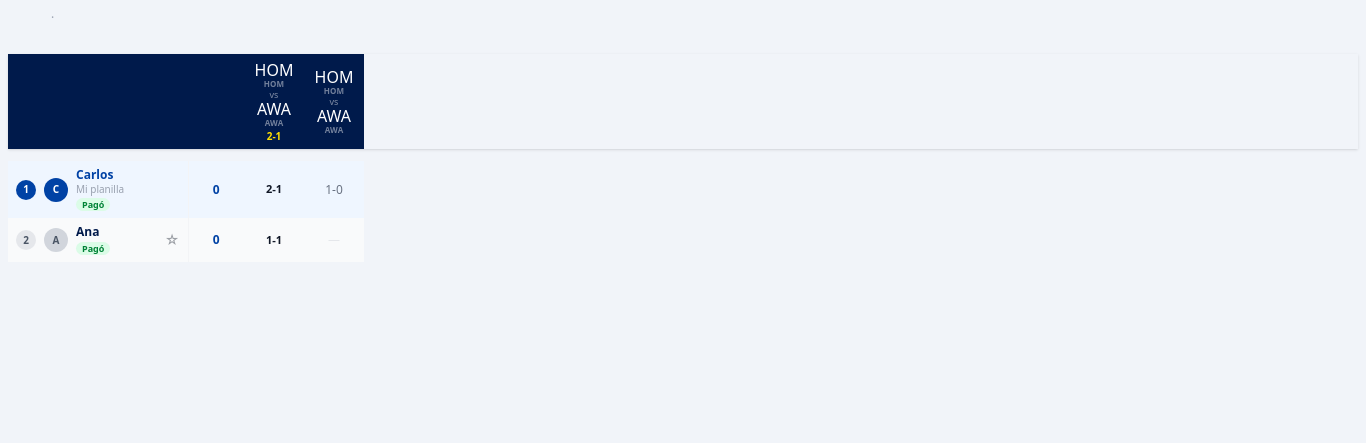
Scenario: Matriz — BetPopover › click en el mismo badge dos veces cierra el popover
Check: the text "Carlos" is shown, box [76,166,113,183]
Click the button "2-1" at (274, 189), box [266,181,282,196]
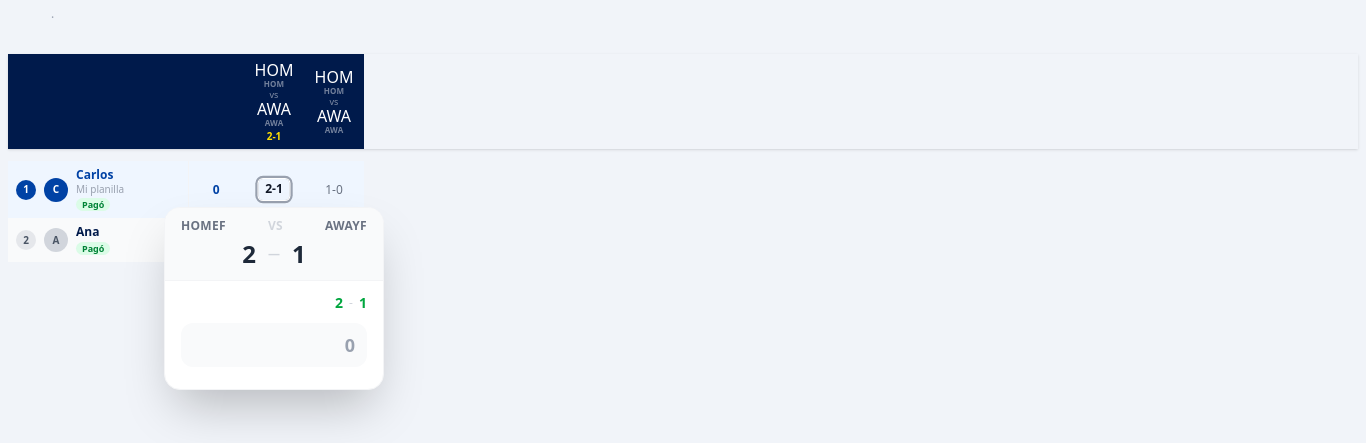
Check: the text "HomeF" is shown, box [181,218,226,234]
Click the button "2-1" at (274, 190), box [258,179,290,200]
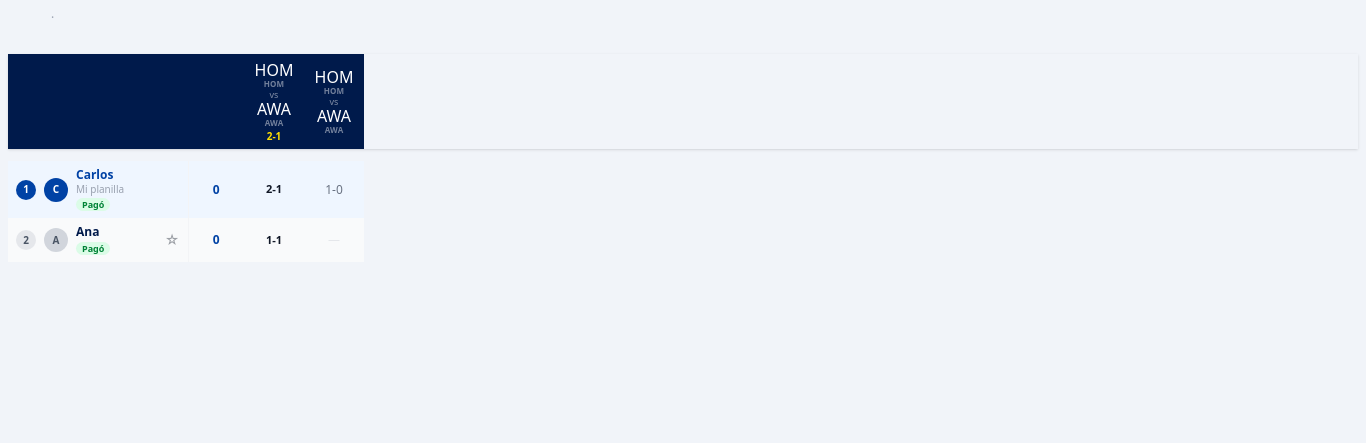
Check: the text "HomeF" is gone
